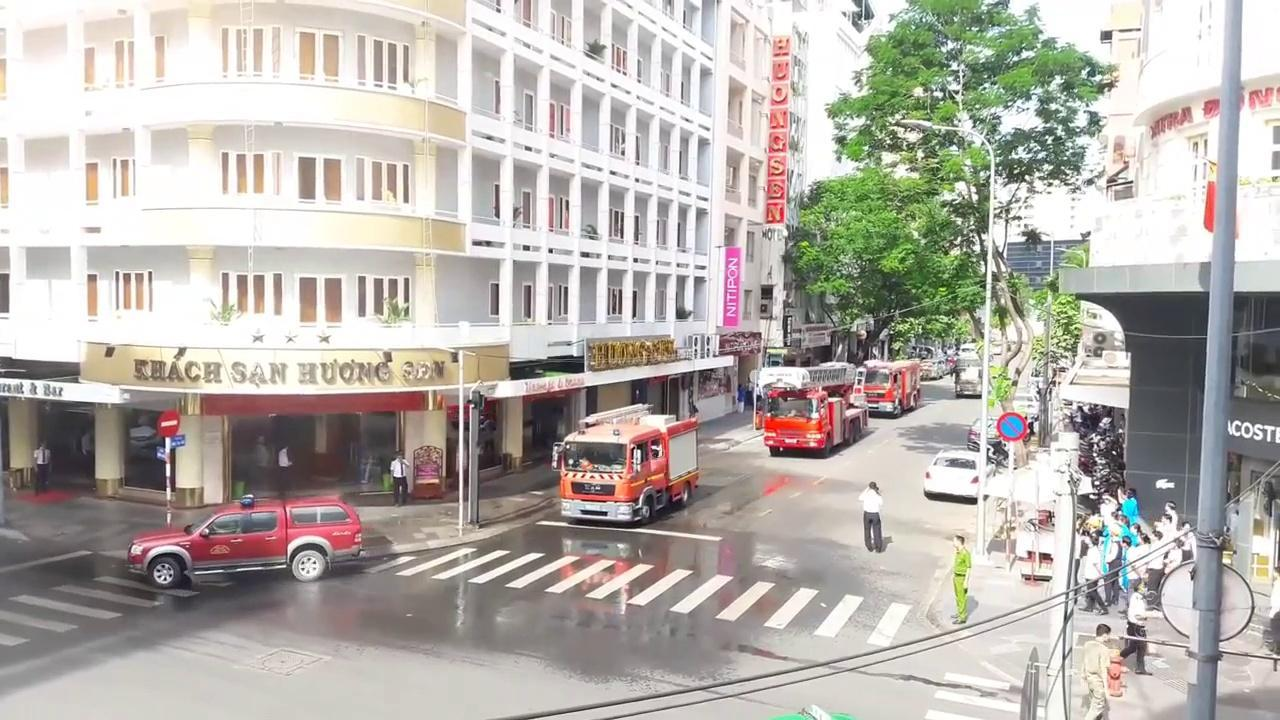xe cuu hoa: (551, 402, 699, 520), (752, 366, 866, 457), (861, 361, 922, 418)
xe hoi: (126, 493, 369, 583), (923, 446, 995, 499), (967, 415, 1005, 450)
xe tai: (952, 356, 989, 398)
